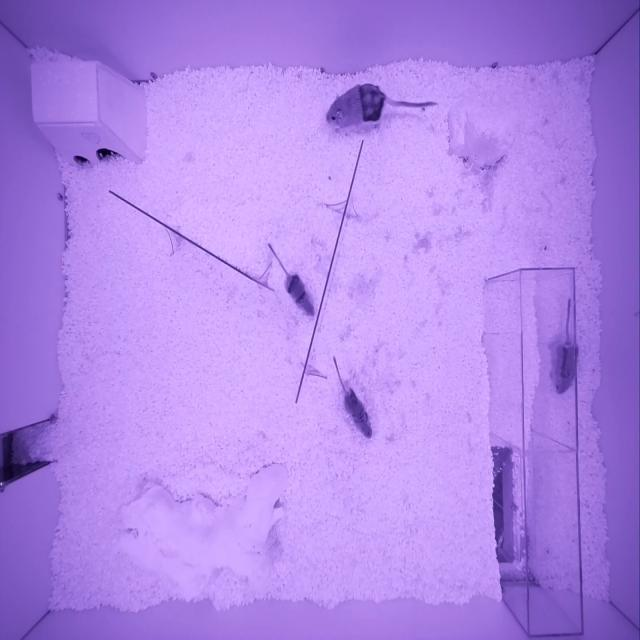adult_back: (326, 83, 386, 130)
pup_h_stripe: (283, 273, 315, 316)
pup_spotted: (344, 388, 373, 438)
pup_v_stripe: (552, 338, 579, 395)
